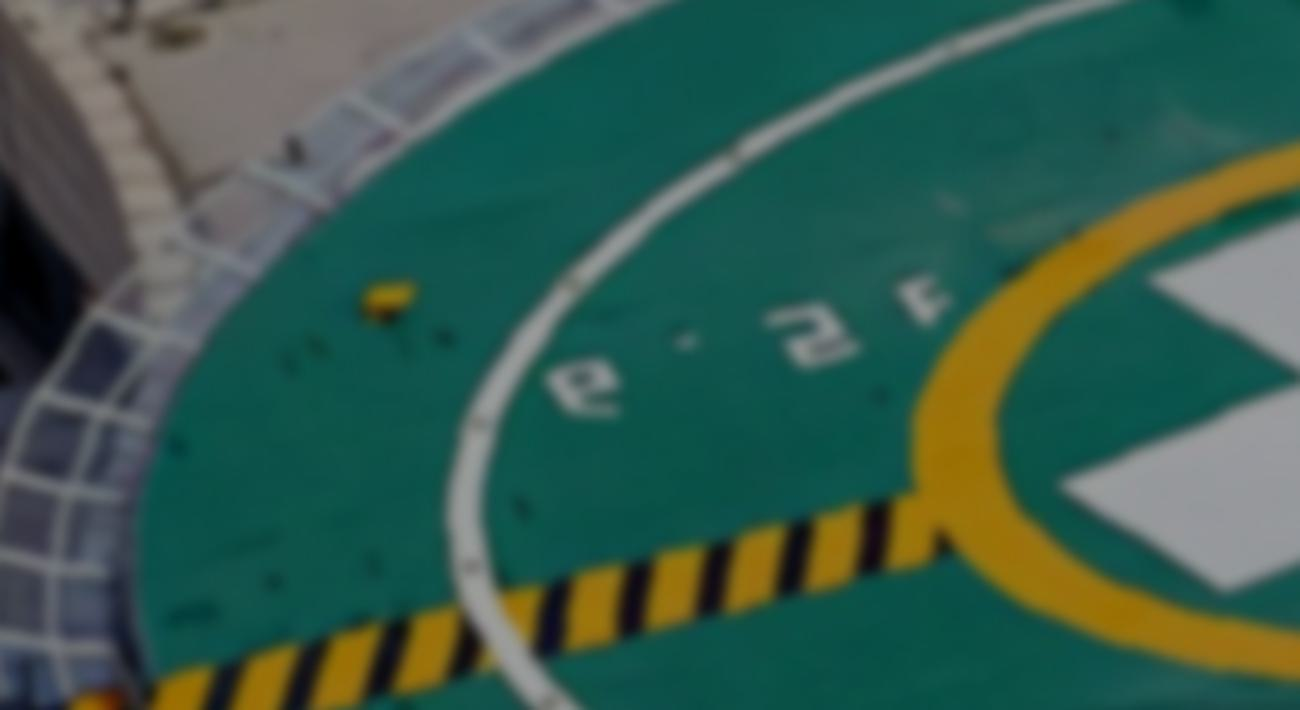Apron: (905, 123, 1300, 684)
